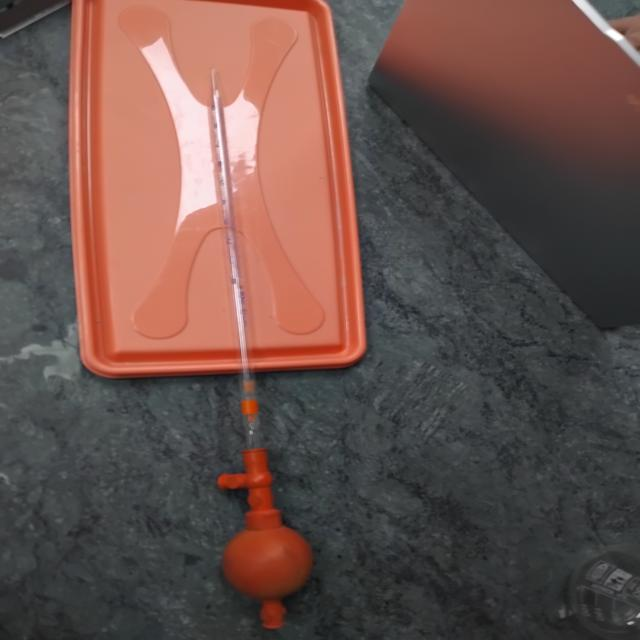Volumetric_Pipet: (159, 47, 352, 640)
